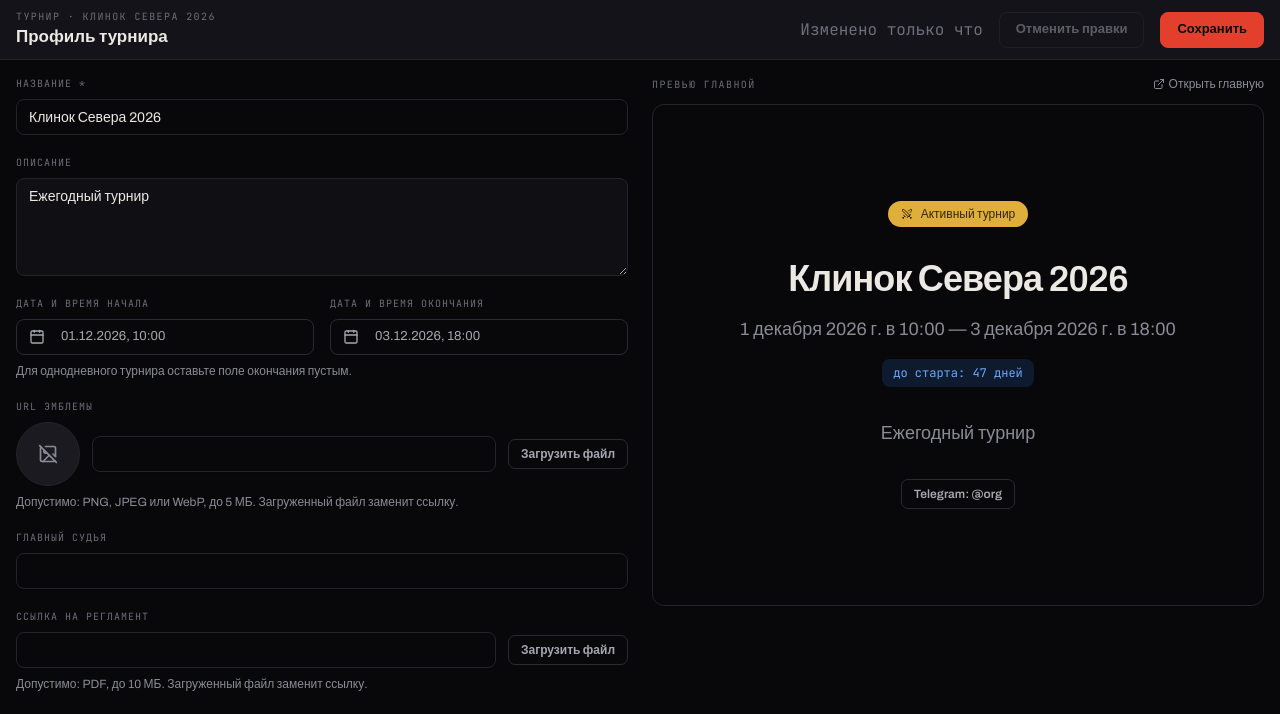
Test case: TournamentScreen (spec 0029) › 'Отменить правки' resets fields, hides the bar, and never touches the server (AC-5)
Step 1. Replace the text in the field labelled "Название *" with "Новое название" → (322, 117), box [16,99,628,135]
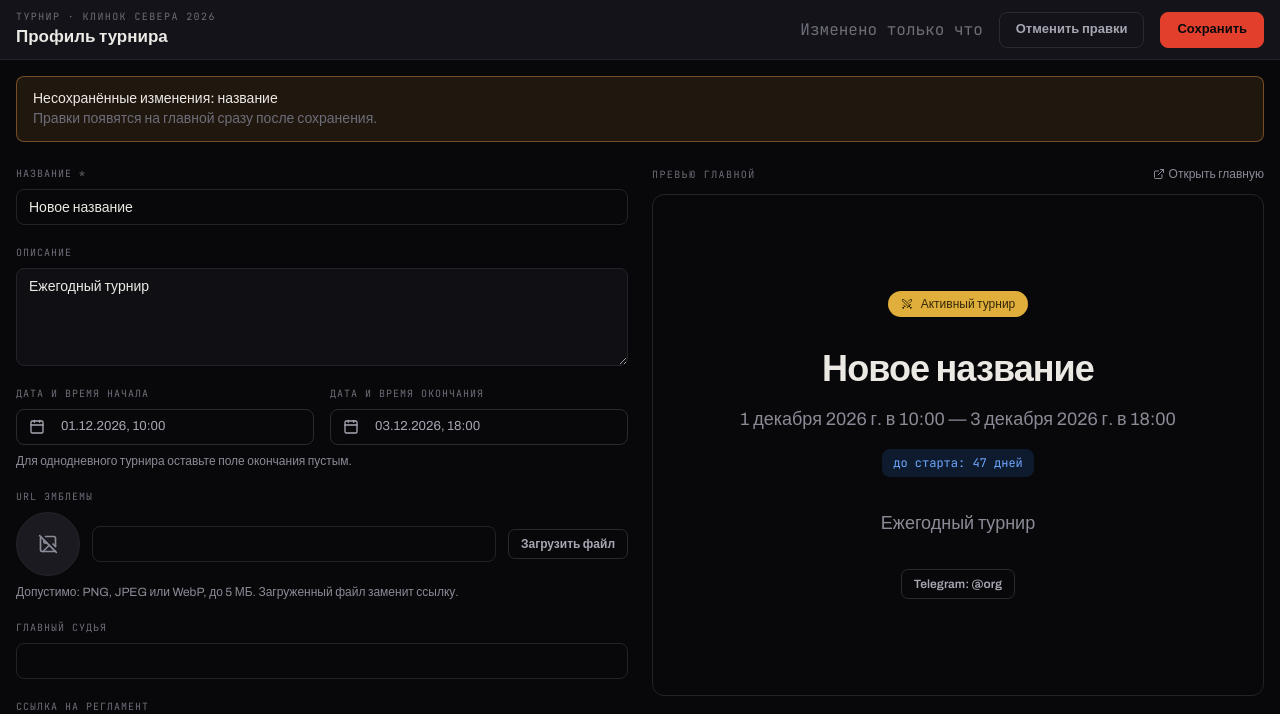
Expected: the text "Несохранённые изменения: название" is shown, [33,91,278,106]
Step 2. Click the button "Отменить правки" → (1072, 30), box [999,12,1144,48]
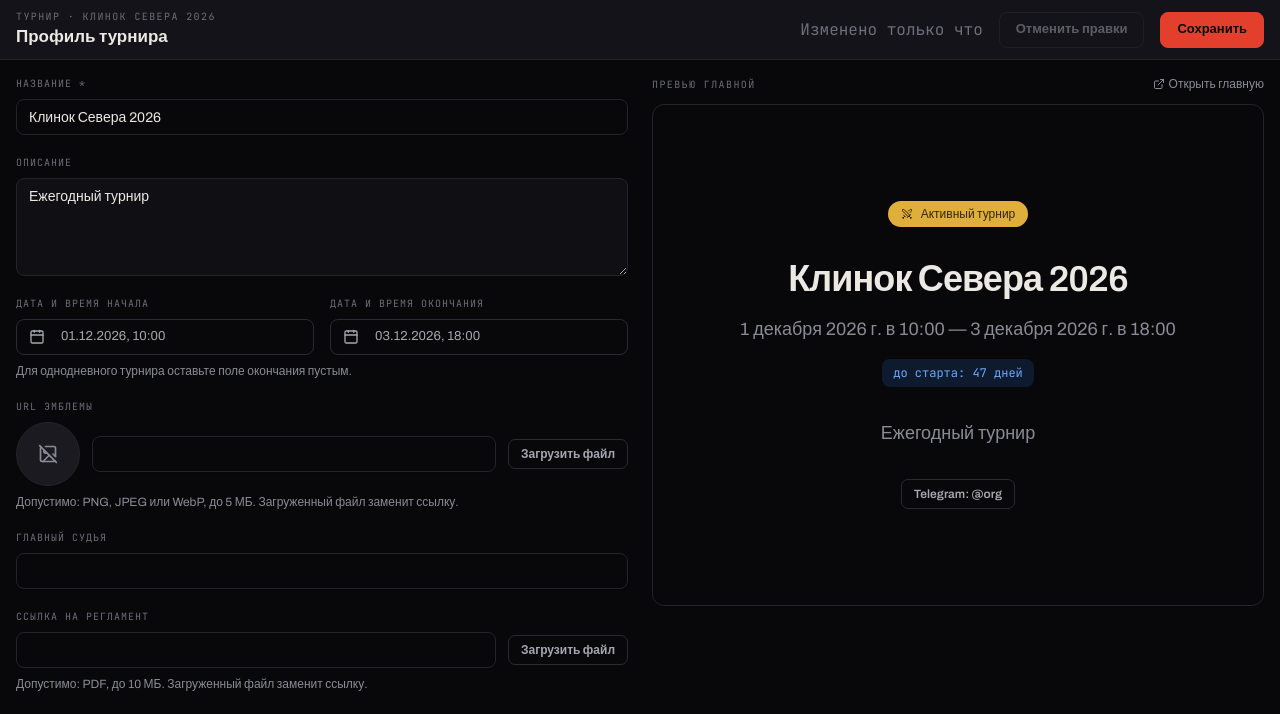
Expected: the text "Несохранённые изменения" is gone
Expected: the field labelled "Название *" holds "Клинок Севера 2026", [16,99,628,135]
